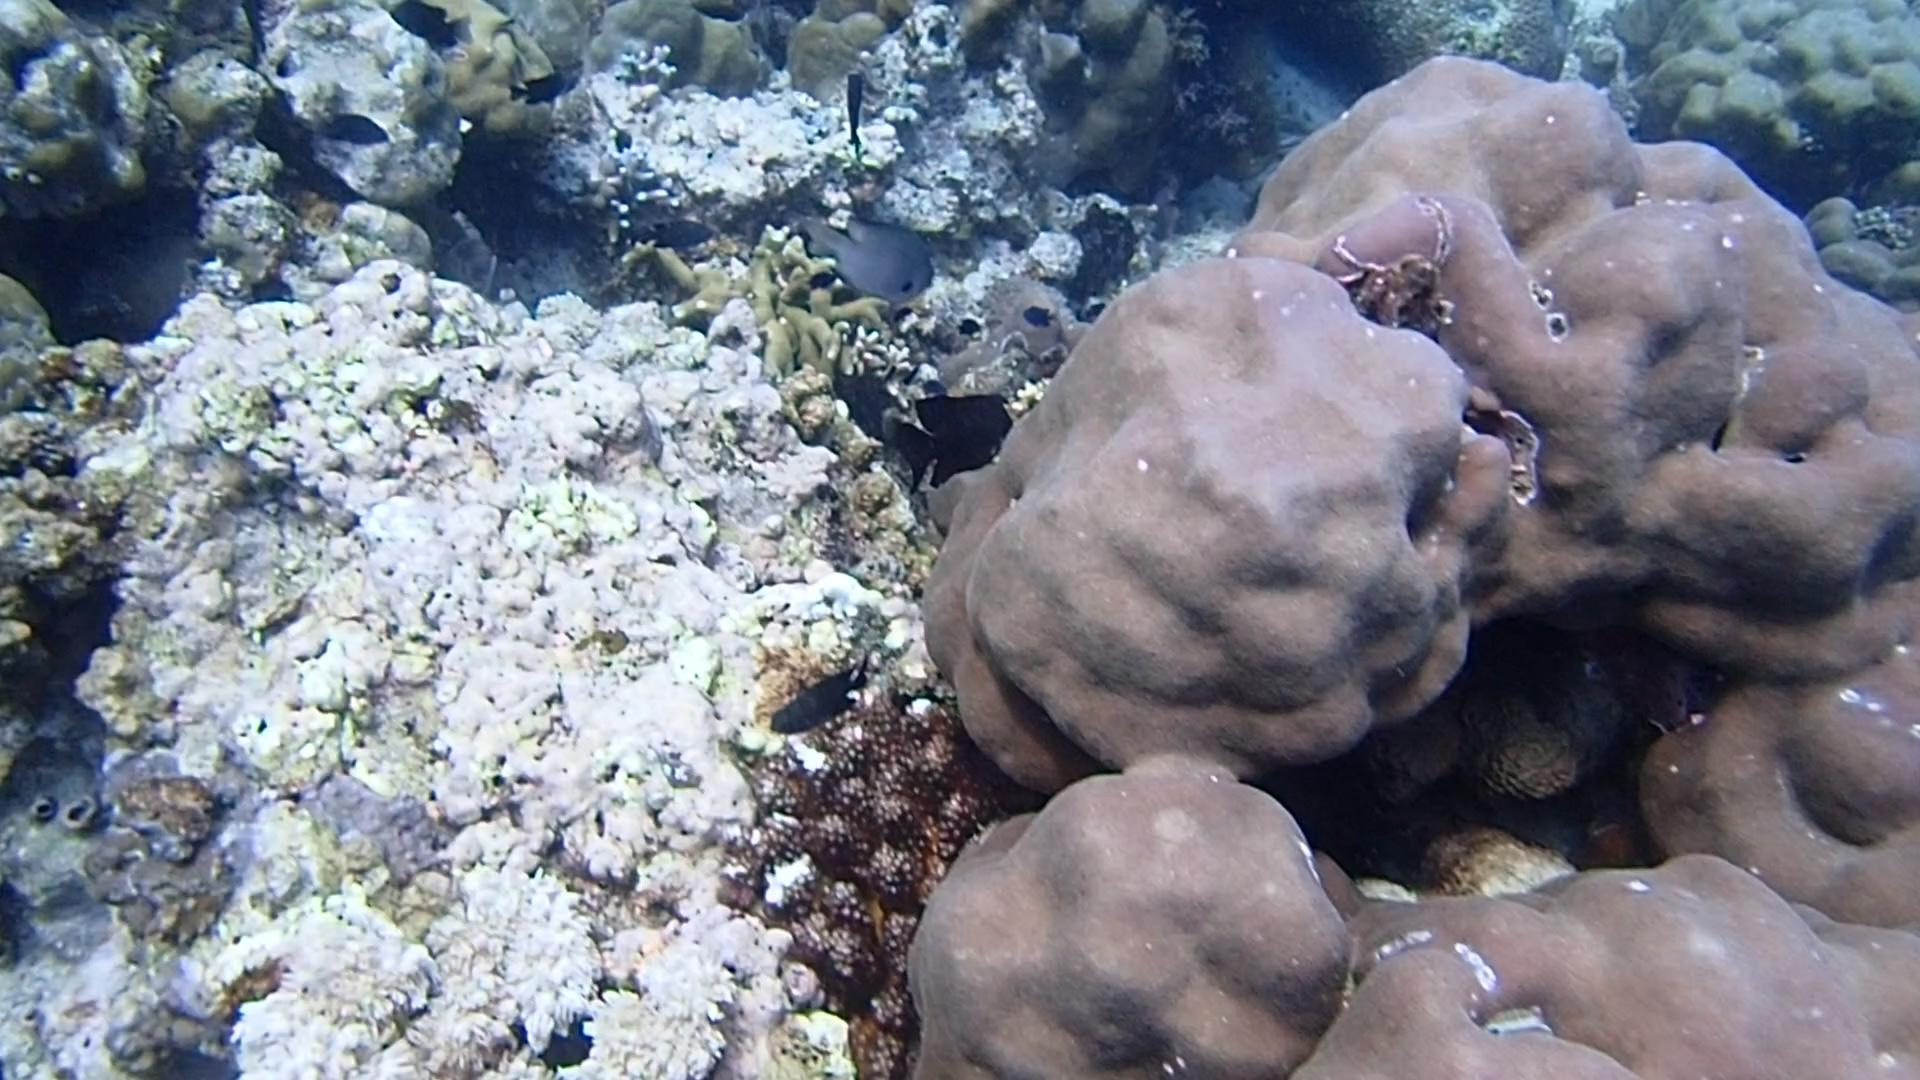Dark Fish: (878, 386, 1021, 469), (758, 647, 877, 733), (384, 0, 468, 57), (310, 105, 402, 150), (500, 67, 575, 112), (840, 63, 873, 158), (637, 216, 719, 252), (952, 309, 989, 347), (803, 264, 839, 301), (1019, 299, 1051, 335)
Light Fish - Dark Fin: (777, 198, 951, 324)
